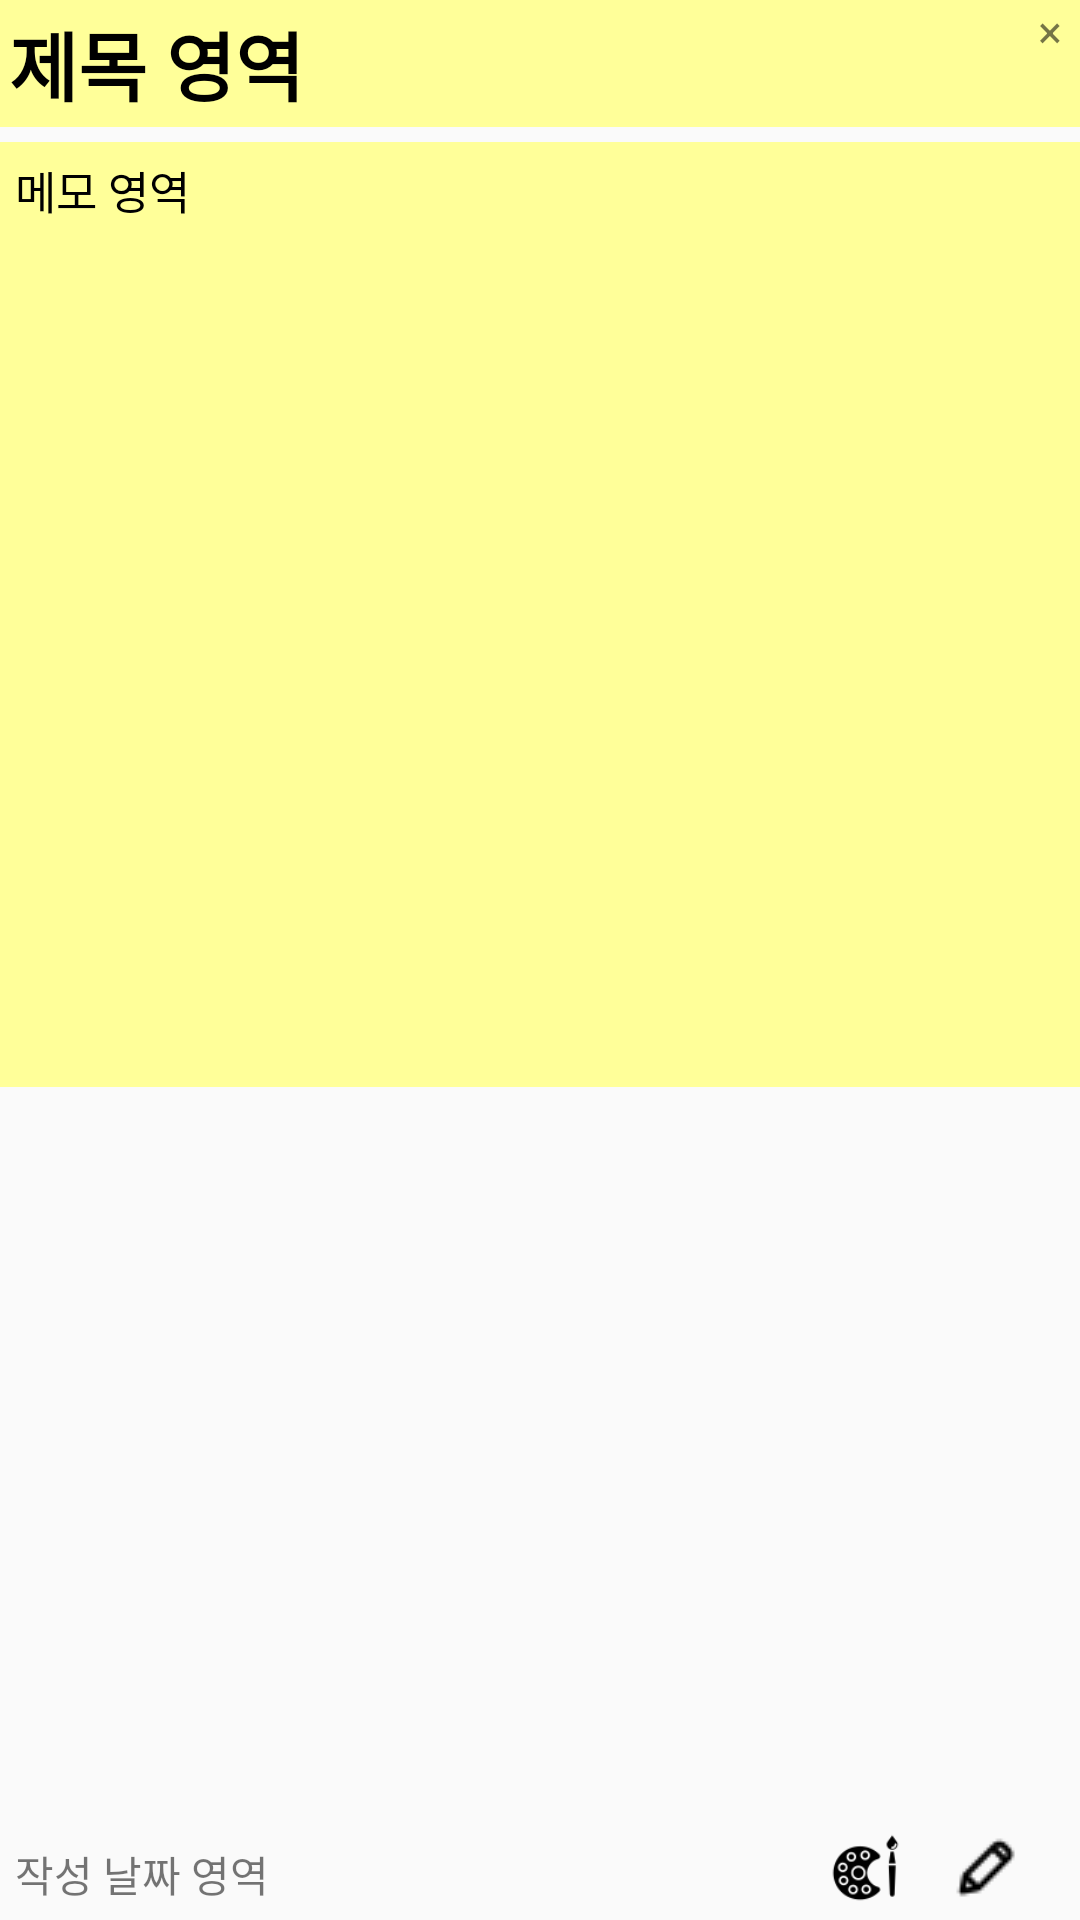

Where icons sit on this 1080*1920 app screen, as [left=x1, top=y1, right=x2, bottom=y2]:
palette by: [left=832, top=1835, right=899, bottom=1901]
write by: [left=957, top=1839, right=1015, bottom=1897]
